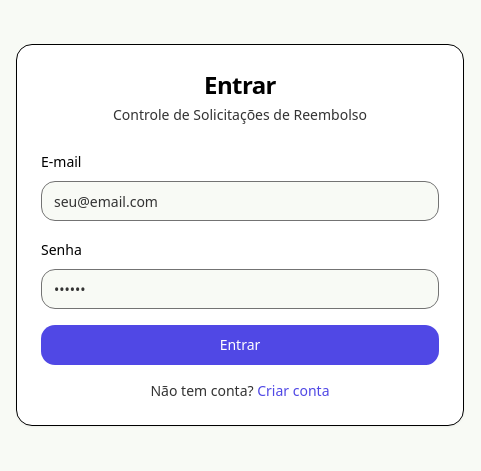
Scenario: LoginPage › shows validation error when submitting empty form
This screenshot has width=481, height=471.
Click the button "Entrar". click: (240, 345)
box: [41,325,439,365]
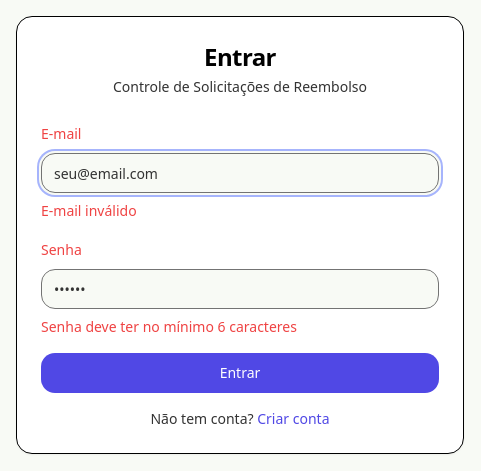
Now the text "E-mail inválido" is shown, box [41,201,137,220]
